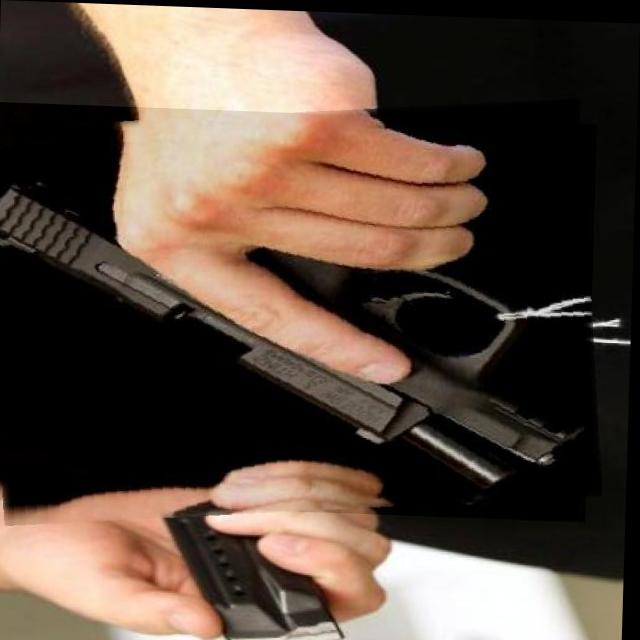handgun: (0, 89, 605, 530)
